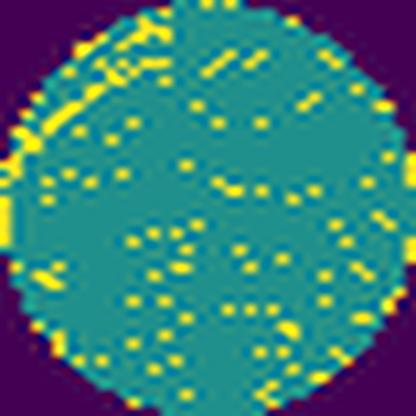Scratch: (38, 48, 173, 142)
